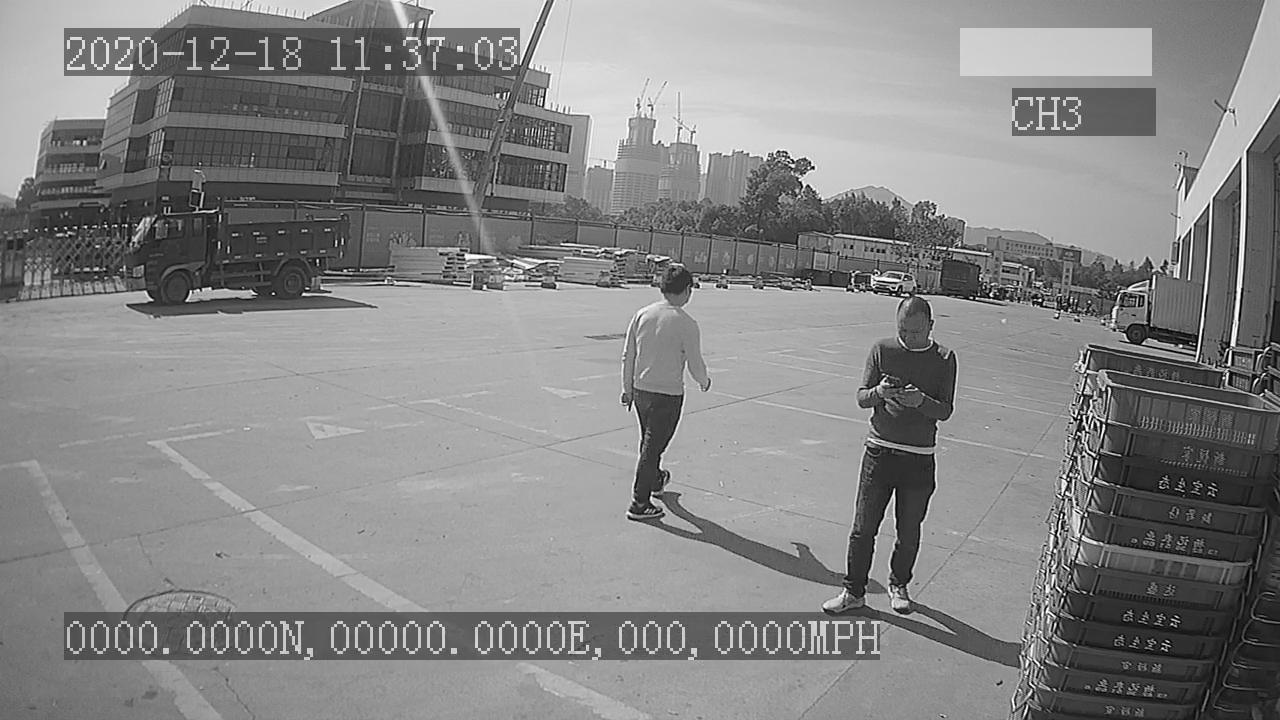person: (824, 296, 961, 615), (621, 262, 711, 521)
